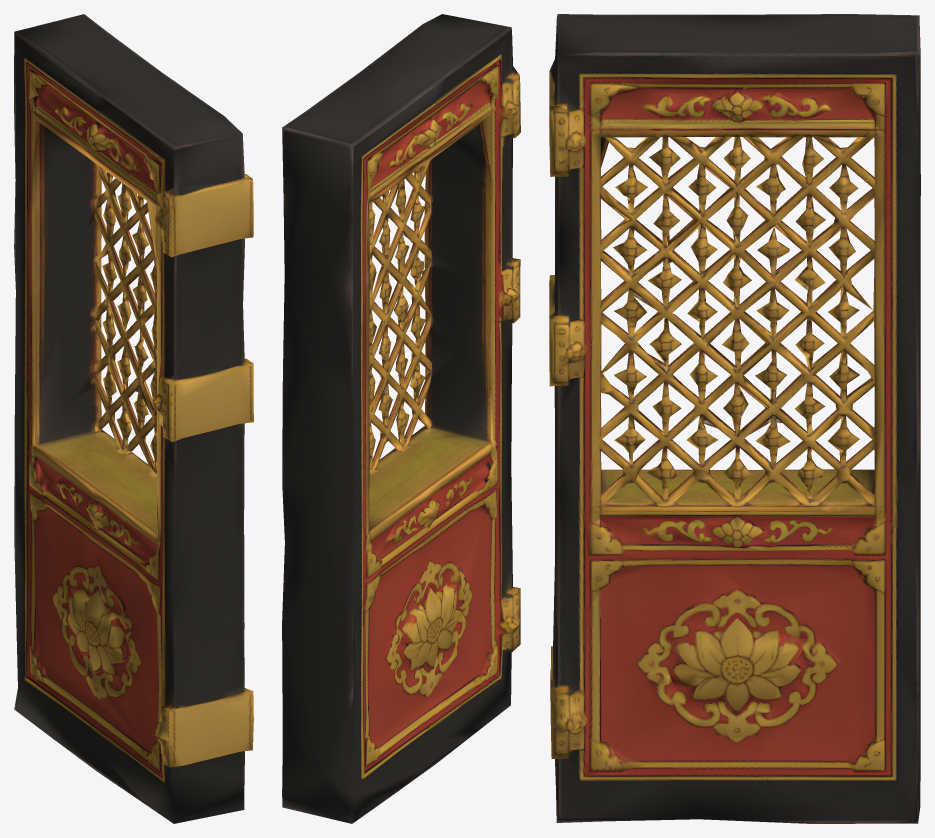
The model's file is hall_door.glb.
3 views of the same model, side by side, from view 1: azimuth 30°, elevation 25°; view 2: azimuth 150°, elevation 25°; view 3: azimuth 270°, elevation 25° (orthographic). The views are drawn at different scales.
Visible parts, largest first — view 1: tripo_node_e66b722d-b3f3-4367-aee6-81eb6231aa38; view 2: tripo_node_e66b722d-b3f3-4367-aee6-81eb6231aa38; view 3: tripo_node_e66b722d-b3f3-4367-aee6-81eb6231aa38.
Part boxes in pixels (<box>): tripo_node_e66b722d-b3f3-4367-aee6-81eb6231aa38: <box>14,14,253,823</box>; tripo_node_e66b722d-b3f3-4367-aee6-81eb6231aa38: <box>282,14,520,823</box>; tripo_node_e66b722d-b3f3-4367-aee6-81eb6231aa38: <box>549,14,920,823</box>.
Size of the model in its own units: 0.15 by 1 by 0.4365.
1 material, 1 textured.
